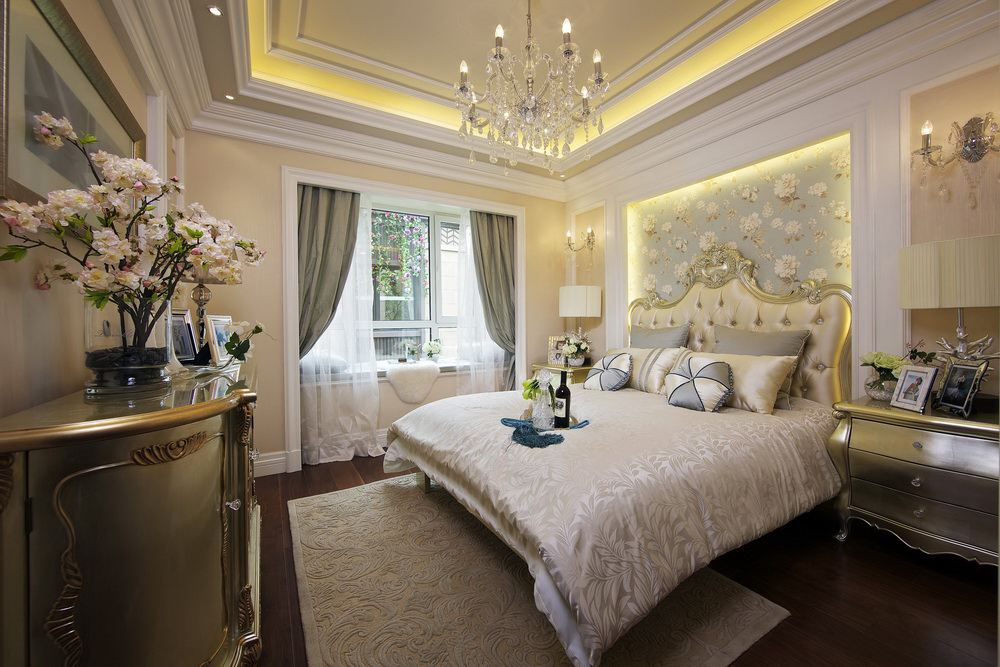床: (396, 395, 832, 612)
枕头: (614, 333, 806, 413)
灯: (434, 9, 610, 176), (551, 283, 599, 356)
